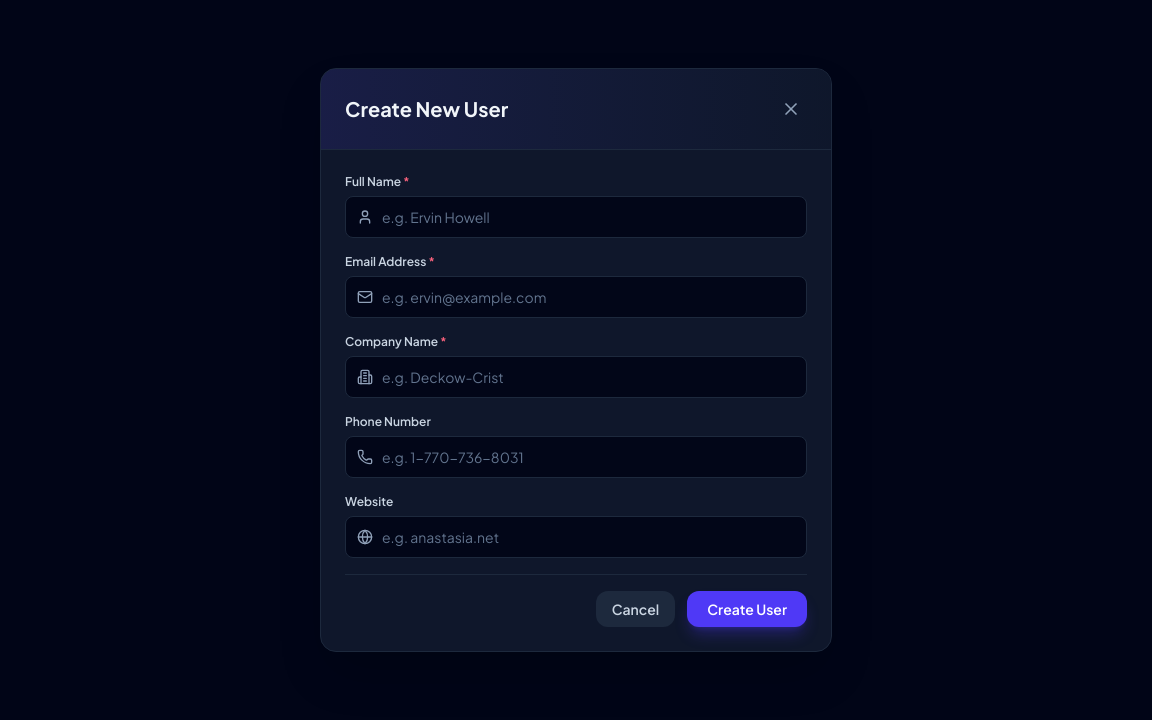
Test: UserFormModal Component › shows validation errors when submitting empty form
Click the button "Create User": (747, 609) [687,591,807,627]
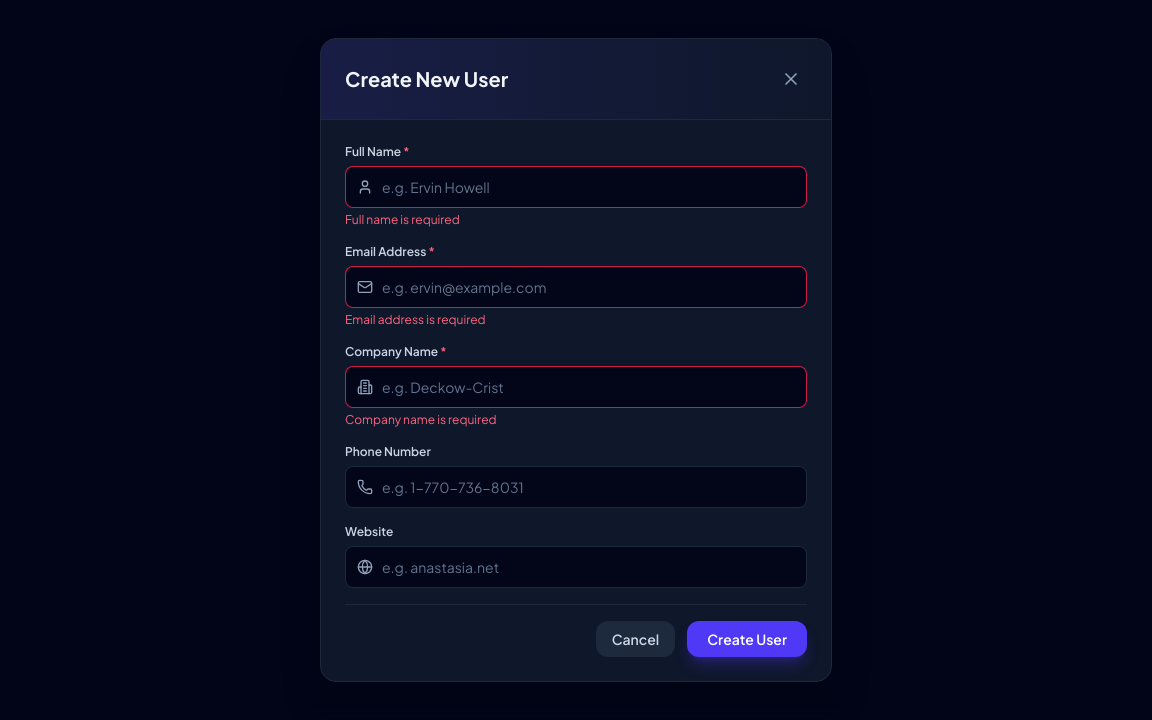
Expected: the text "Full name is required" is shown, [345,212,460,227]
Expected: the text "Email address is required" is shown, [345,312,486,327]
Expected: the text "Company name is required" is shown, [345,412,497,427]
